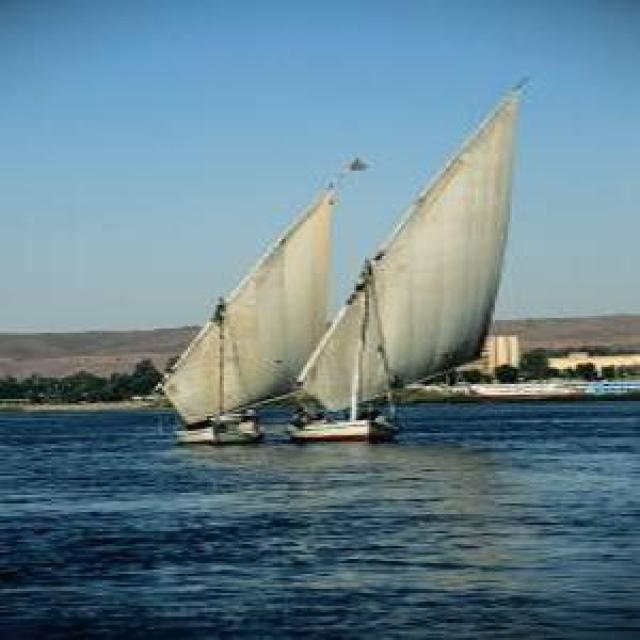sailboat: (299, 69, 530, 440), (150, 153, 342, 444)
